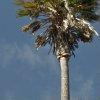Tree: (13, 0, 100, 63)
